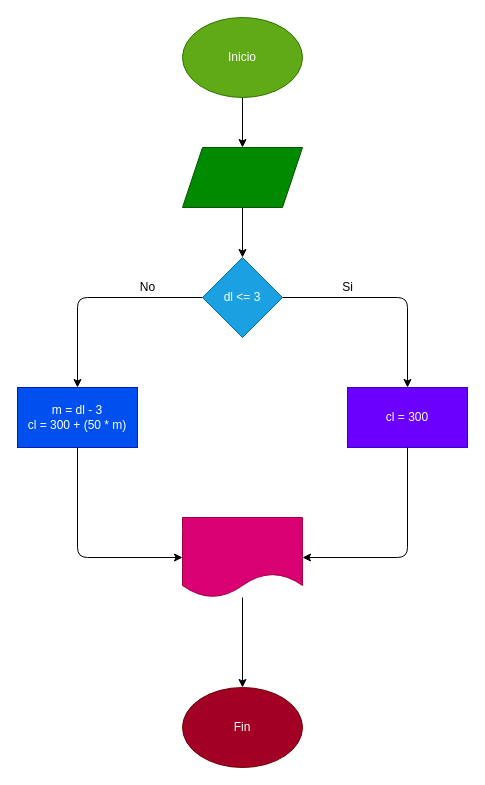
This 485x785 diagram has some shape labels left out. Here are the shapes that lost their labels. From the top down, the centre of each, then its label:
At point (242, 177): "dl".
At point (242, 557): "cl".
